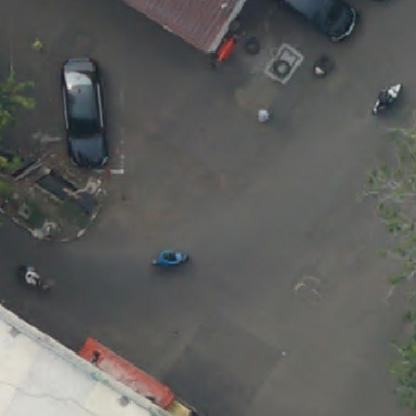car: (62, 58, 114, 170), (275, 0, 363, 45)
motorcycle: (151, 248, 189, 275), (20, 263, 52, 292), (372, 83, 401, 114)
truck: (72, 336, 199, 415)
